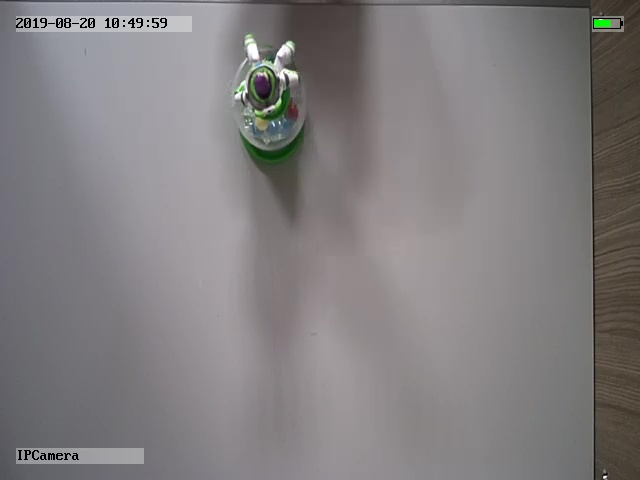buzz: (229, 31, 312, 168)
